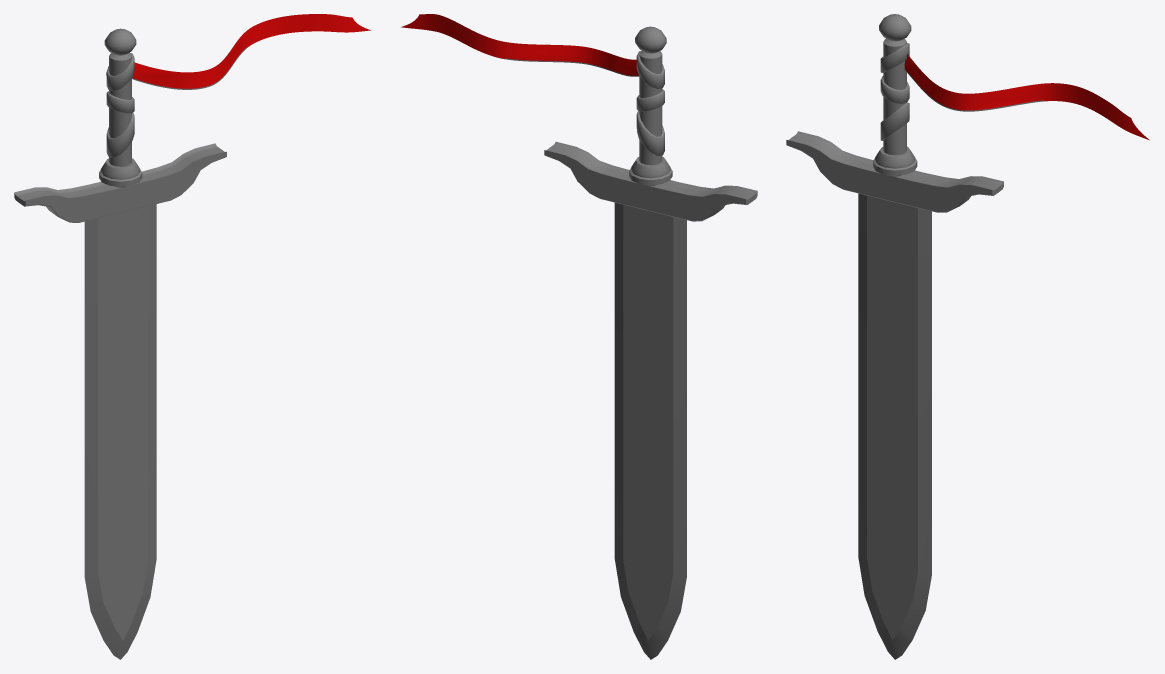
File: SM_SexySword.fbx
3 views of the same model, side by side, from view 1: azimuth 30°, elevation 25°; view 2: azimuth 150°, elevation 25°; view 3: azimuth 330°, elevation 25° (orthographic). The views are drawn at different scales.
Parts seen in each view (by area): view 1: Box003; view 2: Box003; view 3: Box003.
Boxes of the visible parts, <box> form: Box003: <box>14,14,370,659</box>; Box003: <box>401,14,757,659</box>; Box003: <box>786,14,1149,659</box>.
Size of the model in its own units: 87.08 by 149 by 10.7.
